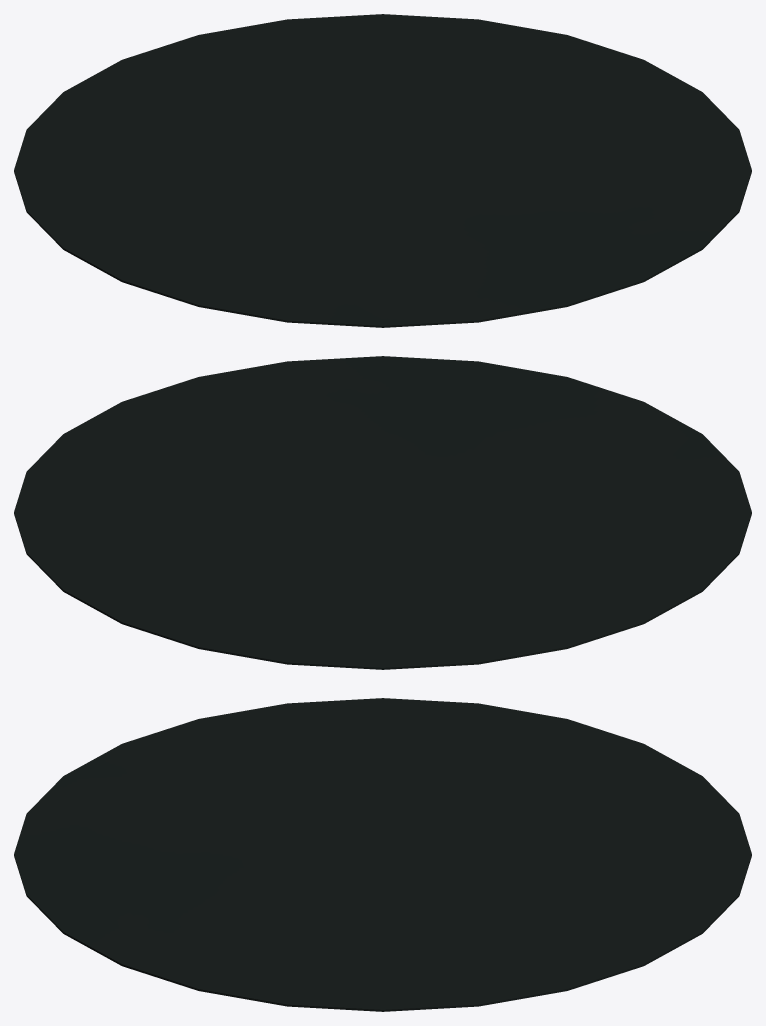
Rendered from SM_QuenchWater.glb.
3 renders of one model, top to bottom at view 1: azimuth 30°, elevation 25°; view 2: azimuth 150°, elevation 25°; view 3: azimuth 270°, elevation 25°, orthographic.
Visible parts, largest first — view 1: SM_QuenchWater; view 2: SM_QuenchWater; view 3: SM_QuenchWater.
Boxes of the visible parts, box(x1,y1,x2,y2) form: SM_QuenchWater: box(14, 14, 751, 327); SM_QuenchWater: box(14, 356, 751, 669); SM_QuenchWater: box(14, 698, 751, 1011).
Bounding box in the file's own units: 0.7 × 0.002 × 0.7.
1 material, 1 textured.
